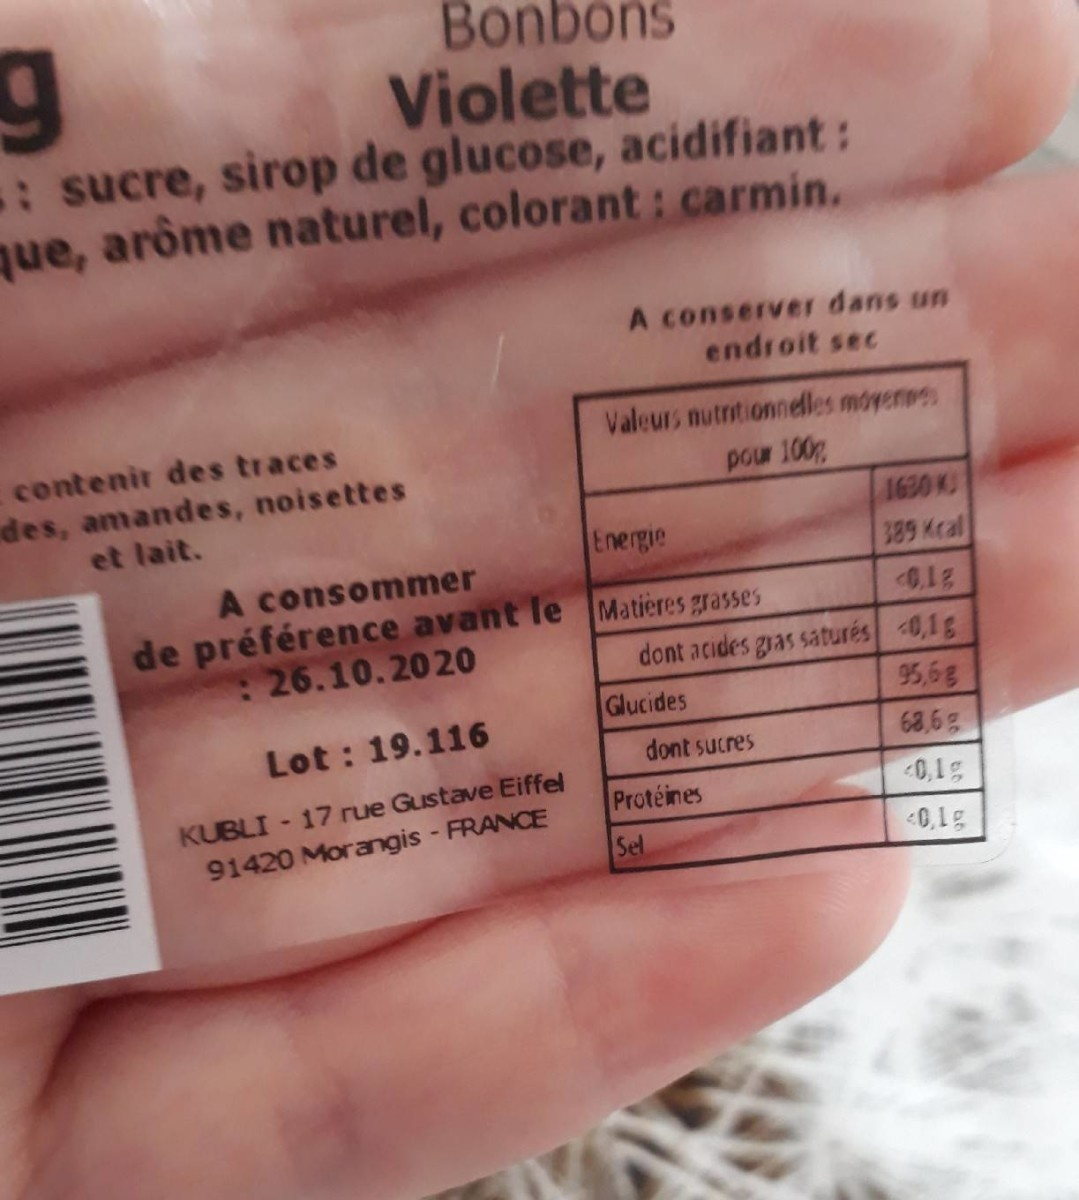column: (592, 529, 870, 856), (882, 473, 971, 832)
table: (570, 366, 996, 883)
